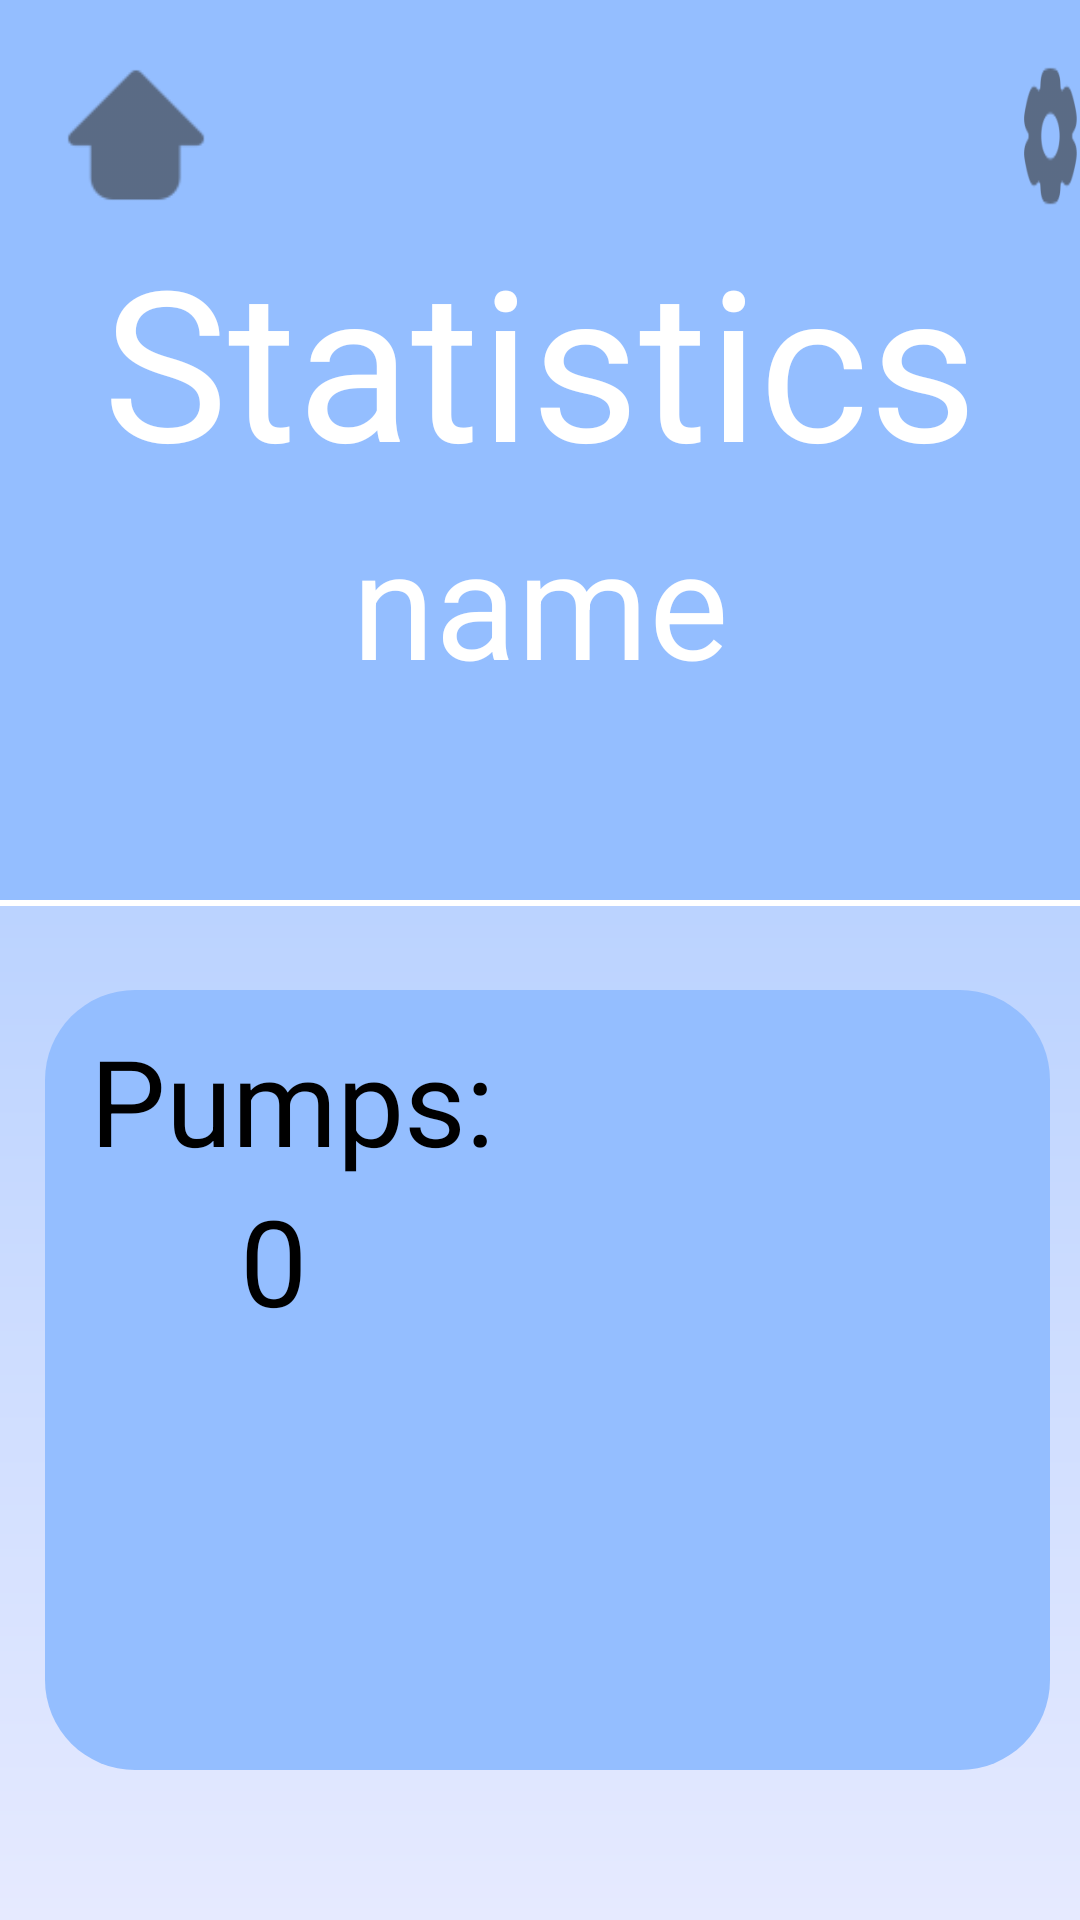

Named icons in this screenshot (1080×1920) and their centers, [x,y]:
cog wheel: [1050,136]
home: [136,135]
